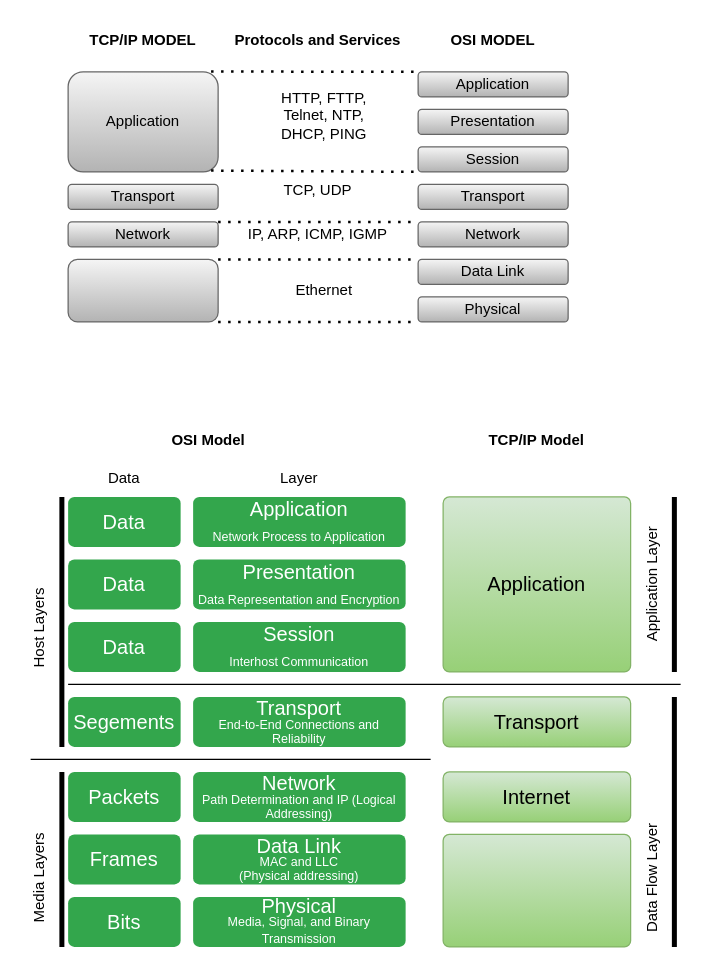
Image size: 705x971. Some labels were removed from this diagram. The shapes that lost their labels are listed below. From the top down, each one's centre as x and y in pixels, then its label:
At (142,290): "Network Interface".
At (536,890): "Network Access".
